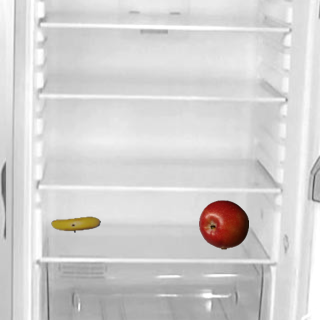Apple Braeburn: (198, 199, 248, 249)
Banana: (50, 199, 100, 249)
